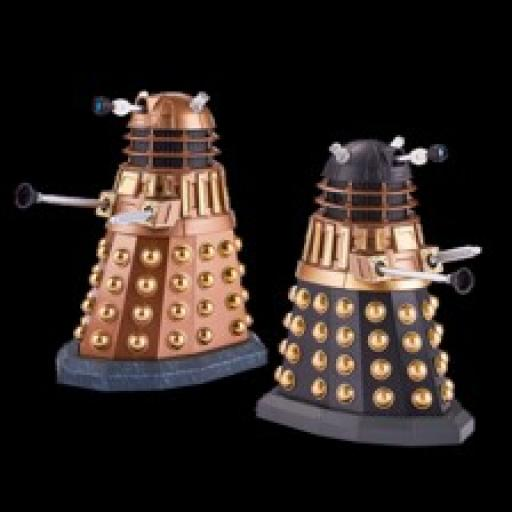dalek: (10, 78, 271, 392), (250, 117, 493, 448)
